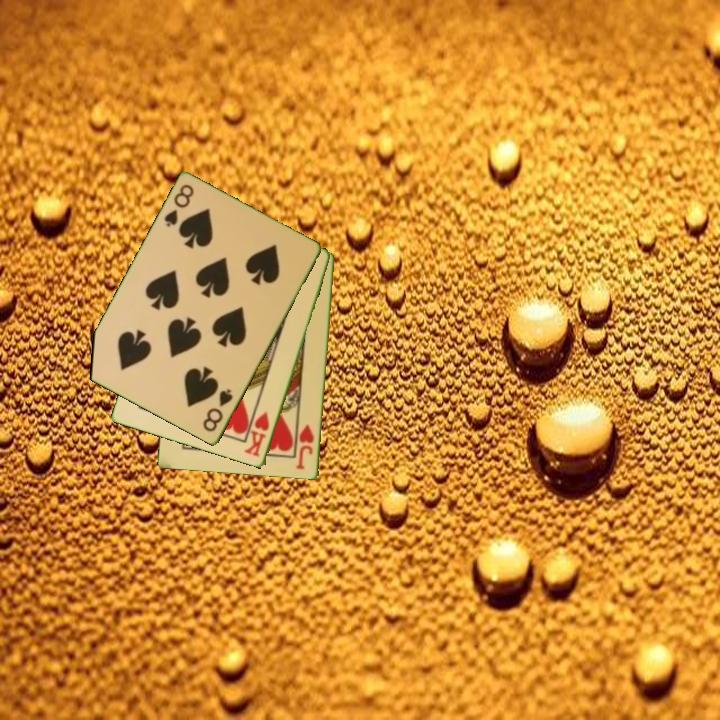8s: (199, 386, 236, 435), (161, 181, 197, 230)
Jh: (293, 421, 317, 473)
Kh: (242, 408, 273, 460)
